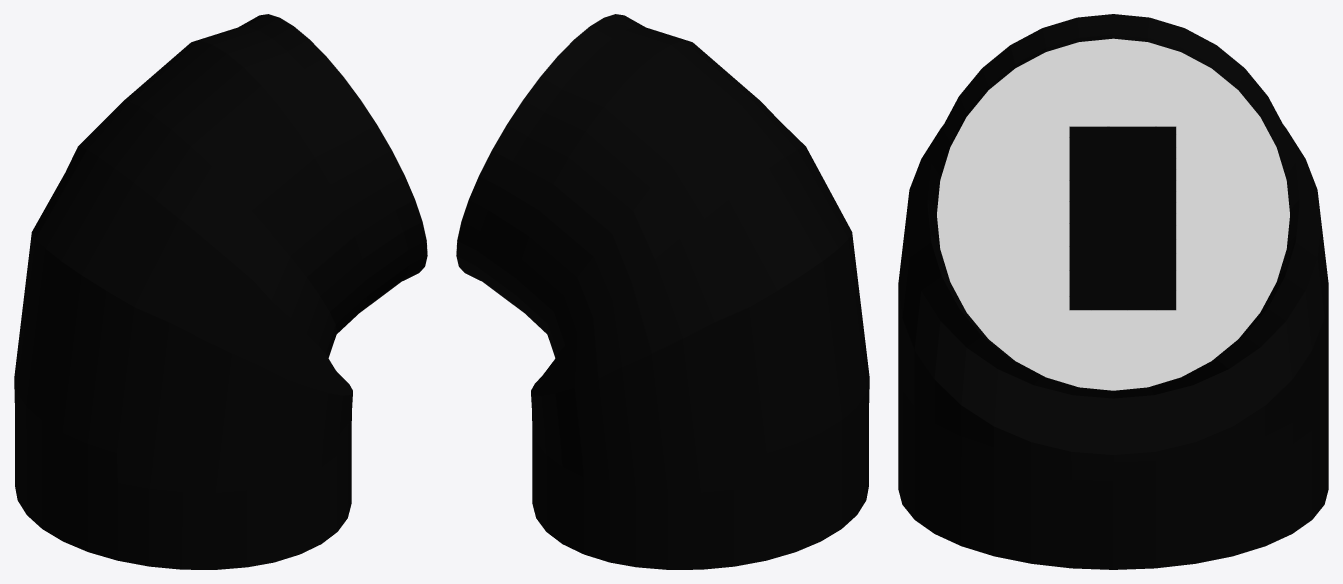
3 renders of one model, left to right at view 1: azimuth 30°, elevation 25°; view 2: azimuth 150°, elevation 25°; view 3: azimuth 270°, elevation 25°, orthographic. The views are drawn at different scales.
Parts seen in each view (by area): view 1: 圆环; view 2: 圆环; view 3: 圆环.
Boxes of the visible parts, box(x1,y1,x2,y2) form: 圆环: box(14, 14, 427, 569); 圆环: box(456, 14, 869, 569); 圆环: box(898, 14, 1328, 569).
Bounding box in the file's own units: 261 × 321 × 244.
Materials: 3 (1 with a texture image).
